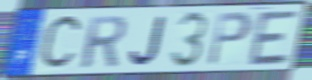3: (168, 10, 209, 70)
C: (37, 12, 85, 74)
E: (246, 8, 301, 68)
J: (128, 14, 169, 68)
P: (205, 10, 254, 68)
R: (79, 14, 128, 70)
